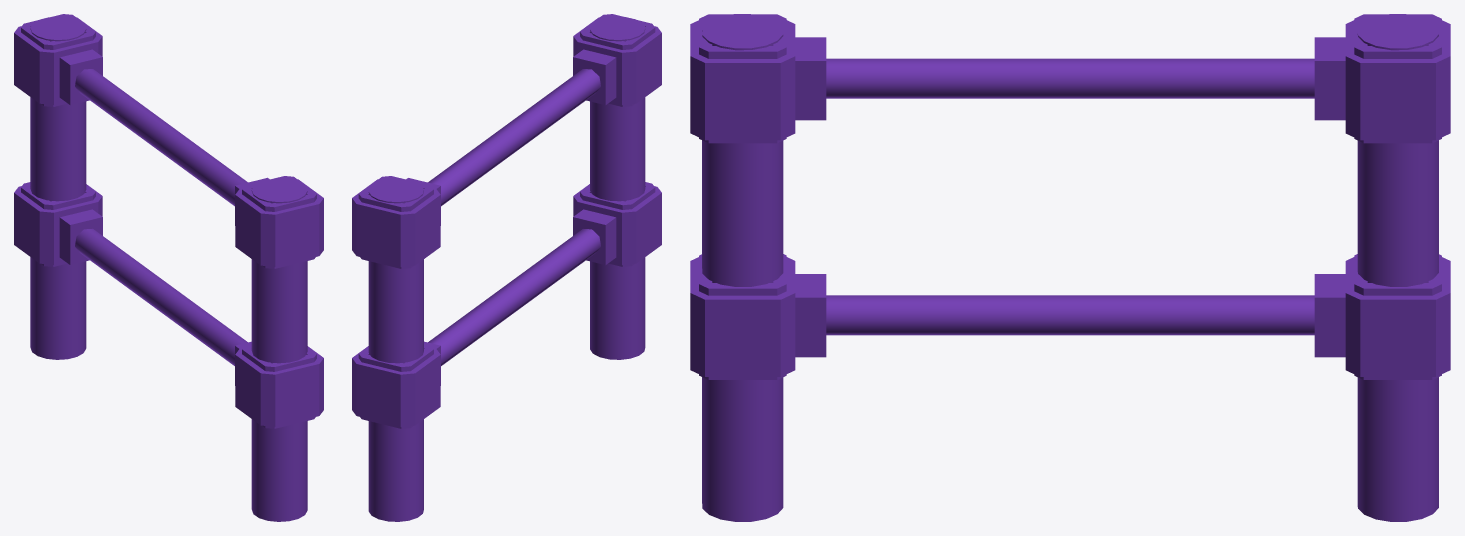
The model's file is Ladder_A_1m.FBX.
3 views of the same model, side by side, from view 1: azimuth 30°, elevation 25°; view 2: azimuth 150°, elevation 25°; view 3: azimuth 270°, elevation 25° (orthographic). The views are drawn at different scales.
Visible parts, largest first — view 1: Ladder_A_1m; view 2: Ladder_A_1m; view 3: Ladder_A_1m.
Part boxes in pixels (<box>): Ladder_A_1m: <box>14,14,323,521</box>; Ladder_A_1m: <box>352,14,661,521</box>; Ladder_A_1m: <box>690,14,1450,521</box>.
Bounding box in the file's own units: 20.68 × 100 × 145.
